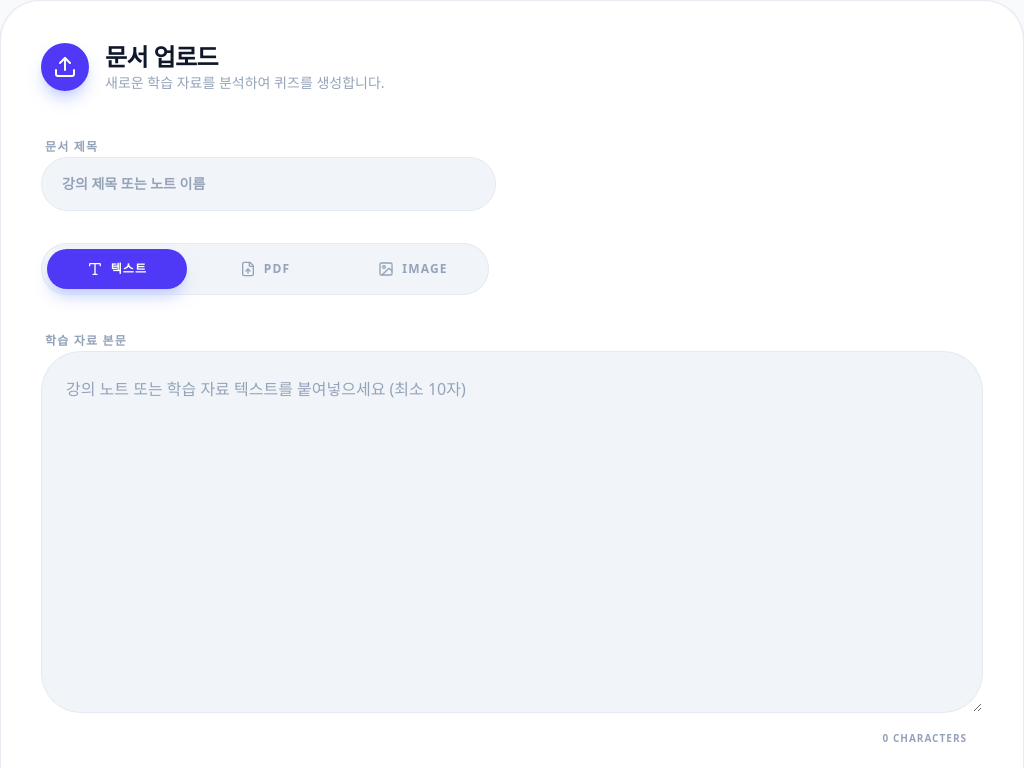
Test: DocumentUploadForm › shows character count
In the text box labelled "학습 자료 본문": coordinates (512, 532) 41,351 -> 983,713, type "Hello"
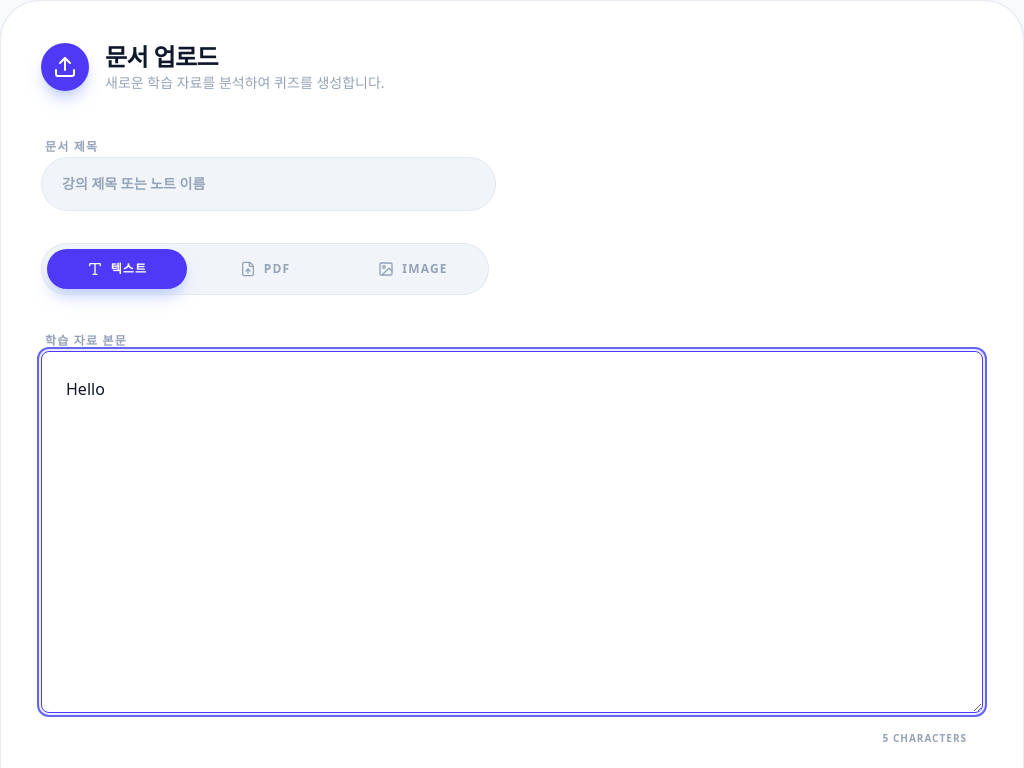
expect the text "5 characters" is shown: met, box 883,731 -> 967,746
